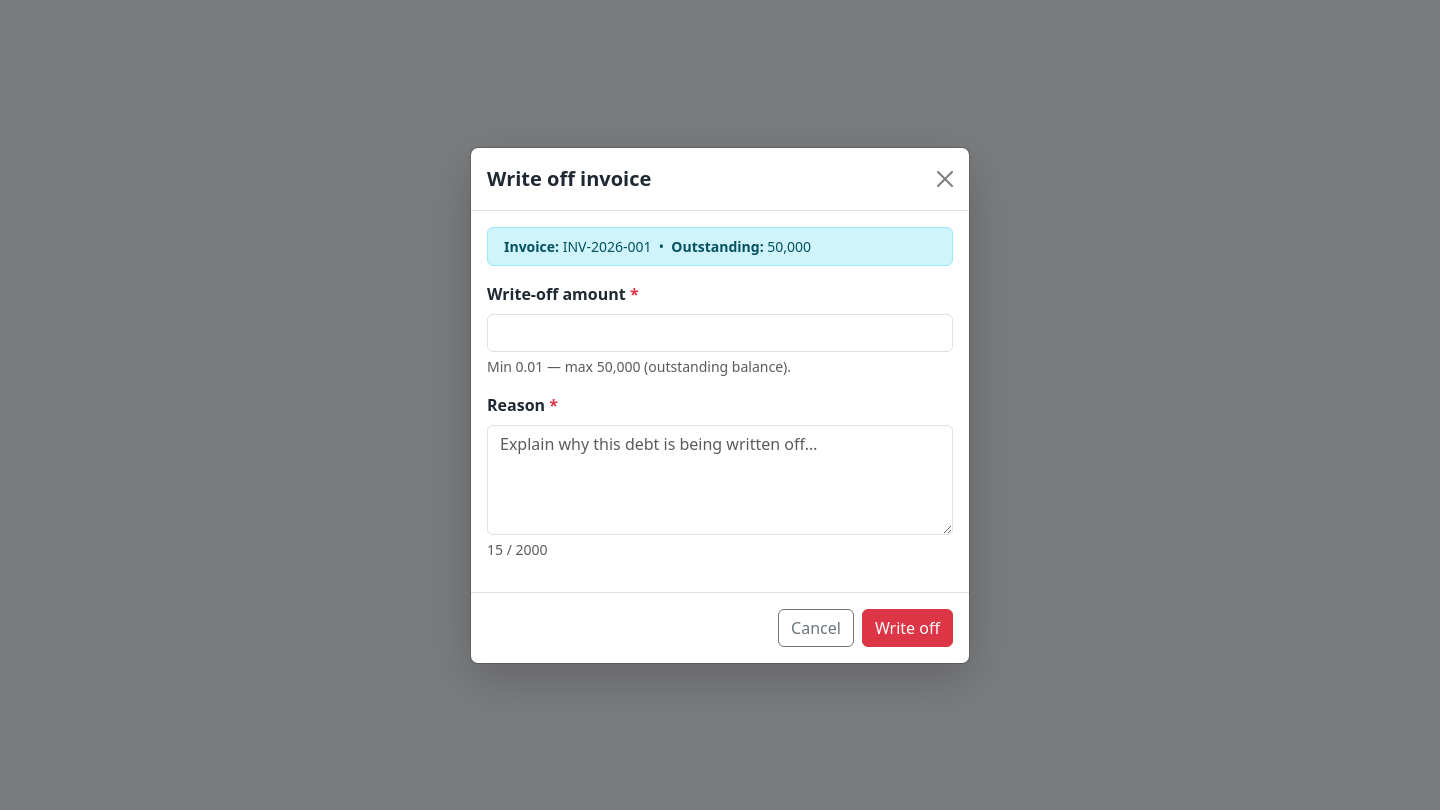
Test case: DebtWriteOffModalComponent › successful submission › shows pending message when status is PENDING_APPROVAL
Click the submit button.
click(907, 628)  # box top-left (862, 608), bottom-right (953, 646)
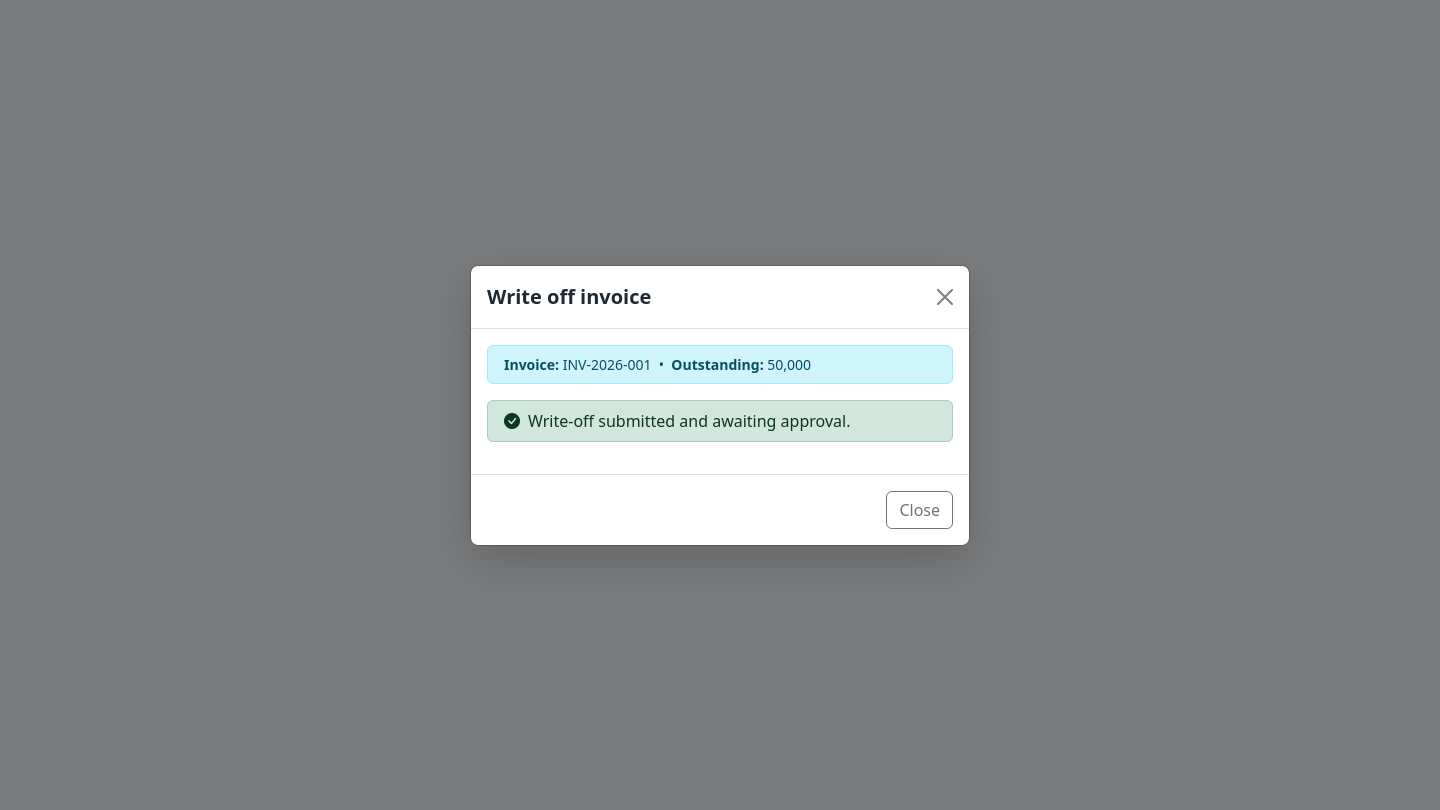
Expected: the text "awaiting approval" is shown, top-left (528, 410), bottom-right (850, 432)
